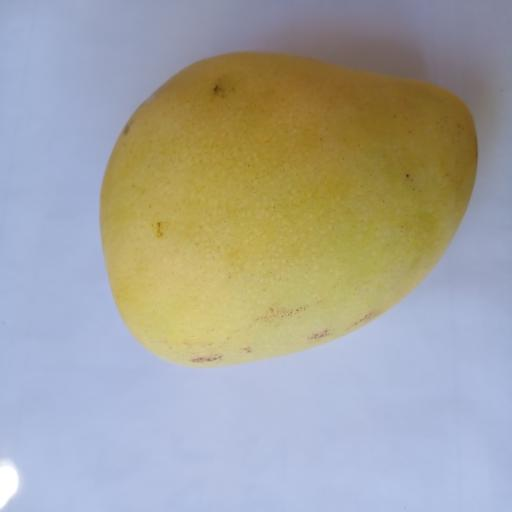mango-ripe: (79, 27, 491, 399)
